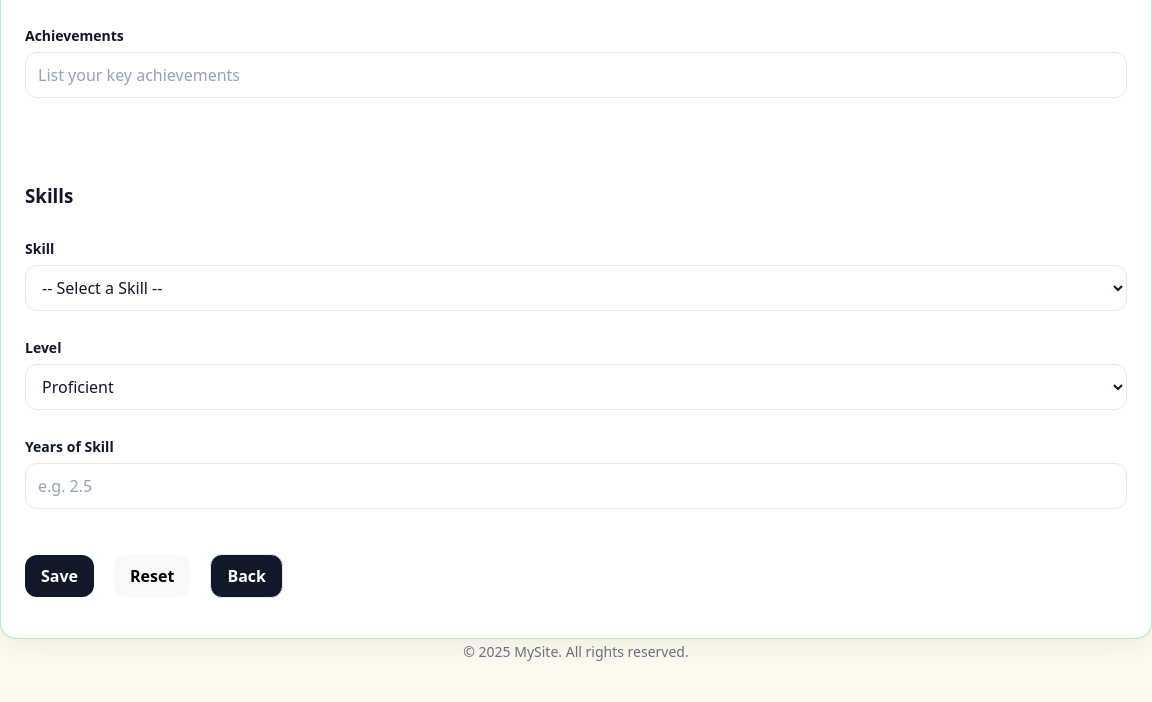
resets all form fields when Reset button clicked
(page scrolled)
Click the button "Reset".
click(152, 576)  # box [114, 555, 190, 597]
(page scrolled)
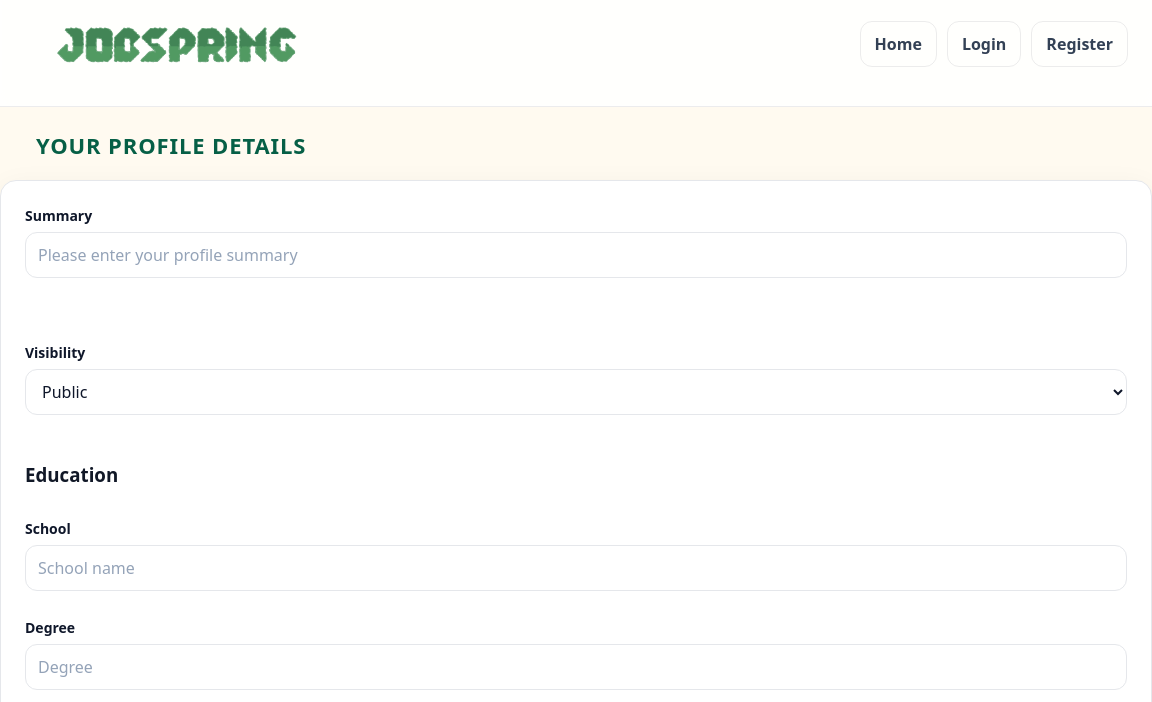
Now the field with placeholder "Please enter your profile summary" is empty, box [25, 232, 1127, 278]
